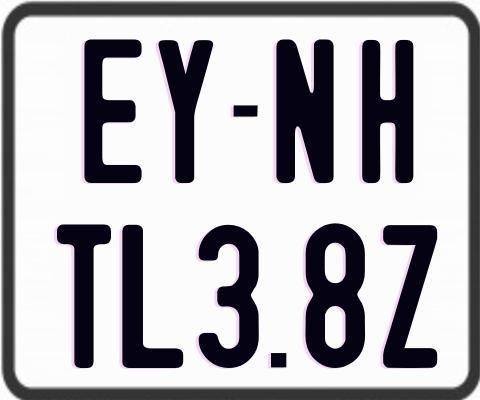3: (197, 225, 263, 371)
8: (305, 220, 368, 370)
E: (82, 38, 143, 182)
H: (362, 37, 415, 181)
L: (121, 223, 183, 366)
N: (274, 38, 336, 185)
T: (55, 222, 114, 371)
Y: (155, 37, 211, 181)
Z: (380, 224, 437, 371)
